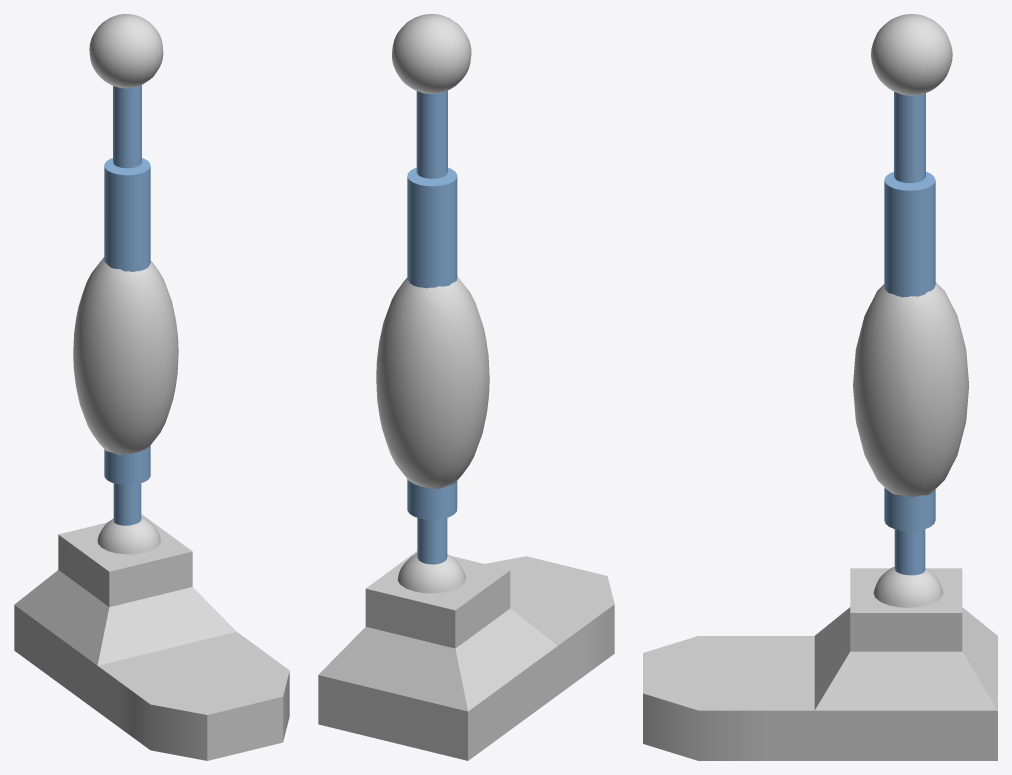
File: DetaRightLeg.fbx
The picture shows the model from 3 angles, left to right: view 1: azimuth 30°, elevation 25°; view 2: azimuth 150°, elevation 25°; view 3: azimuth 270°, elevation 25°; orthographic projection. The views are drawn at different scales.
Parts seen in each view (by area): view 1: DetaRightLeg; view 2: DetaRightLeg; view 3: DetaRightLeg.
Part boxes in pixels (x1=…): DetaRightLeg: x1=14, y1=14, x2=289, y2=760; DetaRightLeg: x1=318, y1=14, x2=614, y2=760; DetaRightLeg: x1=643, y1=14, x2=997, y2=760.
Size of the model in its own units: 0.4282 by 1.89 by 0.8593.
